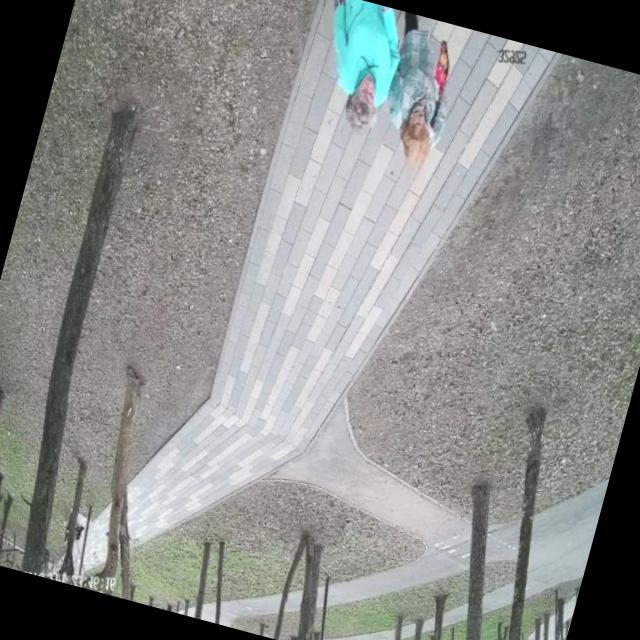person: (352, 9, 482, 182), (294, 0, 423, 149)
